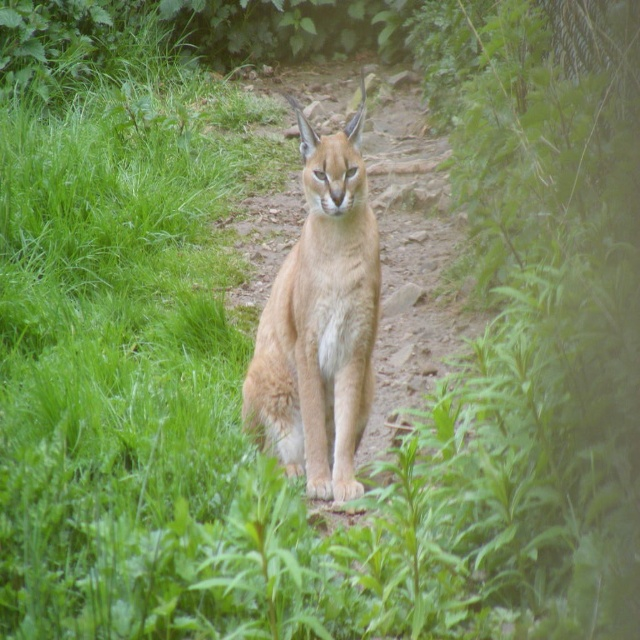Lynx: (242, 61, 382, 502)
